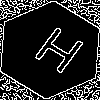H: (25, 25, 87, 83)
